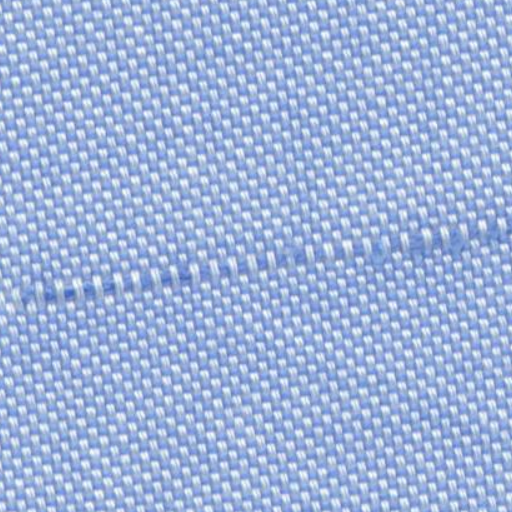DaiSha: (16, 214, 505, 330)
